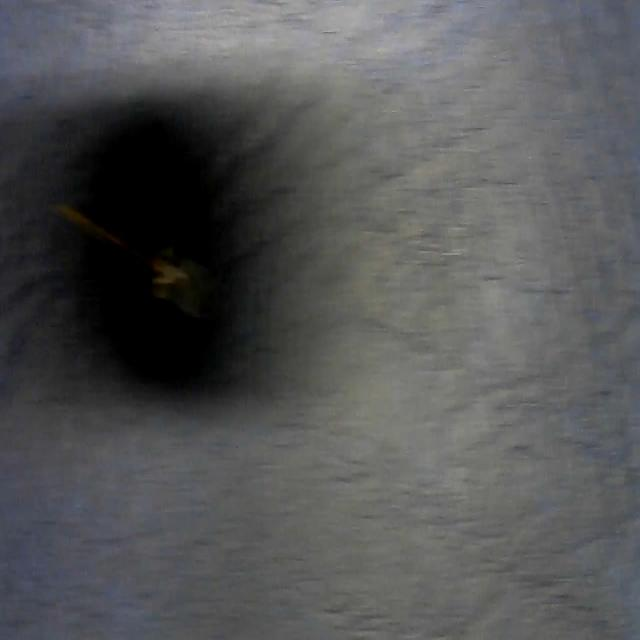LED: (52, 195, 211, 327)
